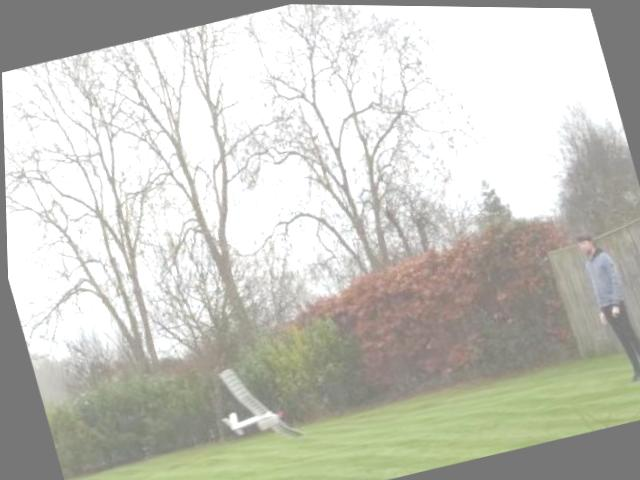uav: (194, 337, 320, 470)
